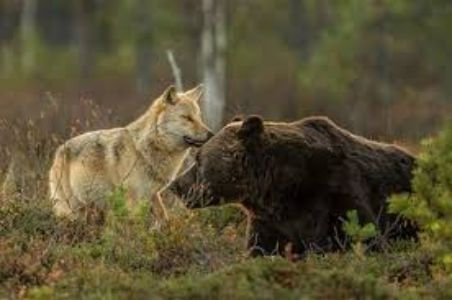bear: (169, 146, 409, 248)
wolf: (45, 81, 208, 238)
